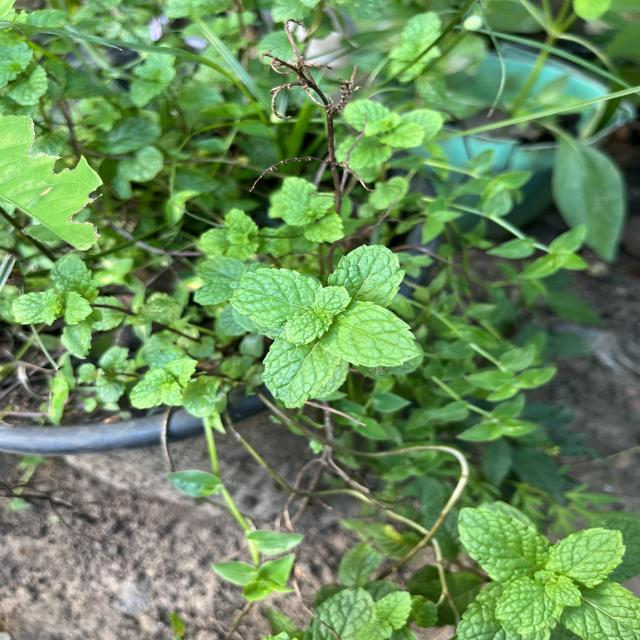Mentha spicata: (321, 299, 422, 369), (225, 266, 322, 329), (262, 334, 342, 410), (328, 243, 408, 307)
